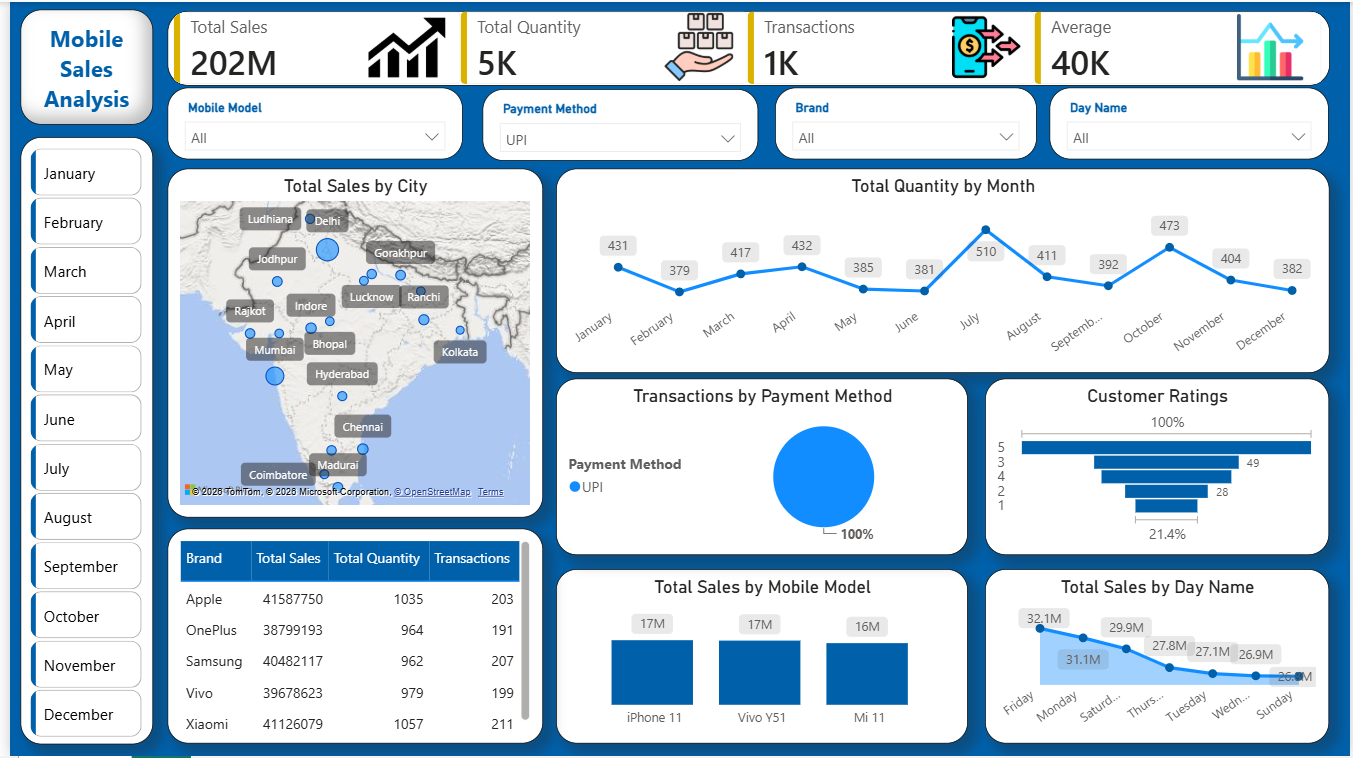

What the dashboard file says about the page in this screenshot:
{"tool":"powerbi","page":{"name":"Page 1","canvas":[1280,720],"ordinal":0},"visuals":[{"type":"shape","box":[10,128.3,126.7,580],"z":0},{"type":"advancedSlicerVisual","fields":{"Values":["Mobile_Sales_Data.Date.Variation.Date Hierarchy.Month"]},"box":[15,135,116.7,573.3],"z":1000},{"type":"map","fields":{"Category":["Mobile_Sales_Data.City"],"Size":["Mobile_Sales_Data.Total Sales"]},"box":[150,158.3,358.3,333.3],"z":2000},{"type":"lineChart","fields":{"Y":["Mobile_Sales_Data.Total Quantity"],"Category":["Mobile_Sales_Data.Date.Variation.Date Hierarchy.Month","Mobile_Sales_Data.Date.Variation.Date Hierarchy.Day"]},"box":[521.7,158.3,738.3,195],"z":3000},{"type":"clusteredColumnChart","fields":{"Category":["Mobile_Sales_Data.Mobile Model"],"Y":["Mobile_Sales_Data.Total Sales"]},"box":[521.7,541.7,393.3,166.7],"z":4000},{"type":"textbox","box":[10,6.7,126.7,110],"z":5000},{"type":"pieChart","fields":{"Category":["Mobile_Sales_Data.Payment Method"],"Y":["Mobile_Sales_Data.Transactions"]},"box":[521.7,360,393.3,168.3],"z":6000},{"type":"funnel","title":"Customer Ratings","fields":{"Category":["Mobile_Sales_Data.Customer Ratings"],"Y":["CountNonNull(Mobile_Sales_Data.Customer Ratings)"]},"box":[931.7,360,328.3,168.3],"z":7000},{"type":"areaChart","fields":{"Category":["Mobile_Sales_Data.Day Name"],"Y":["Mobile_Sales_Data.Total Sales"]},"box":[931.7,541.7,328.3,166.7],"z":8000},{"type":"tableEx","fields":{"Values":["Mobile_Sales_Data.Brand","Mobile_Sales_Data.Total Sales","Mobile_Sales_Data.Total Quantity","Mobile_Sales_Data.Transactions"]},"box":[150,503.3,358.3,205],"z":9000},{"type":"slicer","fields":{"Values":["Mobile_Sales_Data.Mobile Model"]},"box":[150,81.7,281.7,68.3],"z":10000},{"type":"slicer","fields":{"Values":["Mobile_Sales_Data.Payment Method"]},"box":[451.7,83.3,263.3,68.3],"z":11000},{"type":"slicer","fields":{"Values":["Mobile_Sales_Data.Brand"]},"box":[730,81.7,250,68.3],"z":12000},{"type":"slicer","fields":{"Values":["Mobile_Sales_Data.Day Name"]},"box":[993.3,81.7,266.7,68.3],"z":13000},{"type":"cardVisual","fields":{"Data":["Mobile_Sales_Data.Total Sales","Mobile_Sales_Data.Total Quantity","Mobile_Sales_Data.Transactions","Mobile_Sales_Data.Average"]},"box":[150,8,1110,71],"z":14000},{"type":"image","box":[625,5,66.7,76.7],"z":15000},{"type":"image","box":[1161.7,11.7,83.3,63.3],"z":16000},{"type":"image","box":[900,1.7,65,83.3],"z":17000},{"type":"image","box":[341.7,3.3,73.3,81.7],"z":18000}]}

Visuals, with their boxes in screenshot pixels (x1, y1, x2, y2), scaled from the page's 1280x720 canvas onto the 1353x758 screenshot:
shape: crop(11, 135, 144, 746)
advancedSlicerVisual - Mobile_Sales_Data.Date.Variation.Date Hierarchy.Month: crop(16, 142, 139, 746)
map - Mobile_Sales_Data.City x Mobile_Sales_Data.Total Sales: crop(159, 167, 537, 518)
lineChart - Mobile_Sales_Data.Total Quantity x Mobile_Sales_Data.Date.Variation.Date Hierarchy.Month: crop(551, 167, 1332, 372)
clusteredColumnChart - Mobile_Sales_Data.Mobile Model x Mobile_Sales_Data.Total Sales: crop(551, 570, 967, 746)
textbox: crop(11, 7, 144, 123)
pieChart - Mobile_Sales_Data.Payment Method x Mobile_Sales_Data.Transactions: crop(551, 379, 967, 556)
"Customer Ratings" funnel: crop(985, 379, 1332, 556)
areaChart - Mobile_Sales_Data.Day Name x Mobile_Sales_Data.Total Sales: crop(985, 570, 1332, 746)
tableEx - Mobile_Sales_Data.Brand x Mobile_Sales_Data.Total Sales: crop(159, 530, 537, 746)
slicer - Mobile_Sales_Data.Mobile Model: crop(159, 86, 456, 158)
slicer - Mobile_Sales_Data.Payment Method: crop(477, 88, 756, 160)
slicer - Mobile_Sales_Data.Brand: crop(772, 86, 1036, 158)
slicer - Mobile_Sales_Data.Day Name: crop(1050, 86, 1332, 158)
cardVisual - Mobile_Sales_Data.Total Sales x Mobile_Sales_Data.Total Quantity: crop(159, 8, 1332, 83)
image: crop(661, 5, 731, 86)
image: crop(1228, 12, 1316, 79)
image: crop(951, 2, 1020, 89)
image: crop(361, 3, 439, 89)
